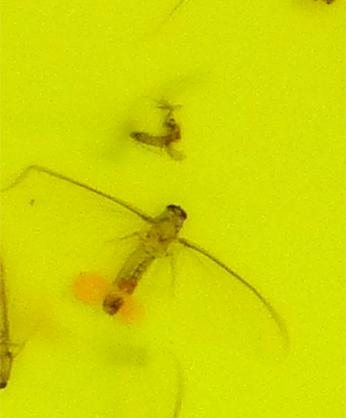Ephemeroptera: (100, 201, 246, 318)
Nematocera: (127, 100, 182, 156)
